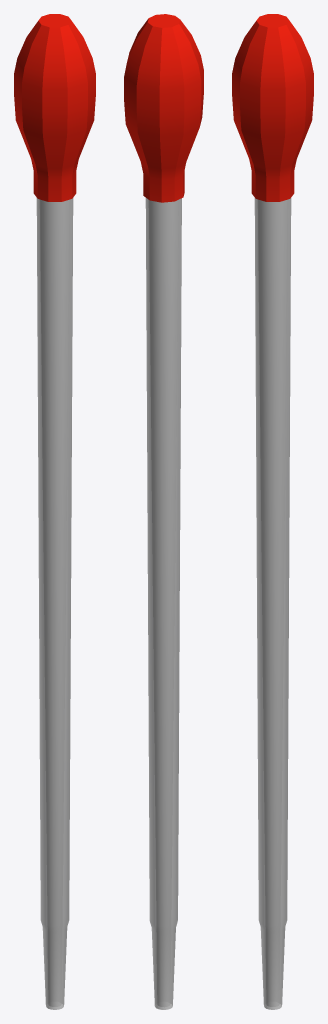
Rendered from pipet-tetes.fbx.
3 renders of one model, left to right at view 1: azimuth 90°, elevation 25°; view 2: azimuth 210°, elevation 25°; view 3: azimuth 270°, elevation 25°, orthographic.
Visible parts, largest first — view 1: Pipette_7; view 2: Pipette_7; view 3: Pipette_7.
Boxes of the visible parts, x1=… form: Pipette_7: x1=14, y1=14, x2=95, y2=1009; Pipette_7: x1=124, y1=14, x2=203, y2=1009; Pipette_7: x1=232, y1=14, x2=313, y2=1009.
Bounding box in the file's own units: 6.17 × 86.31 × 6.49.
